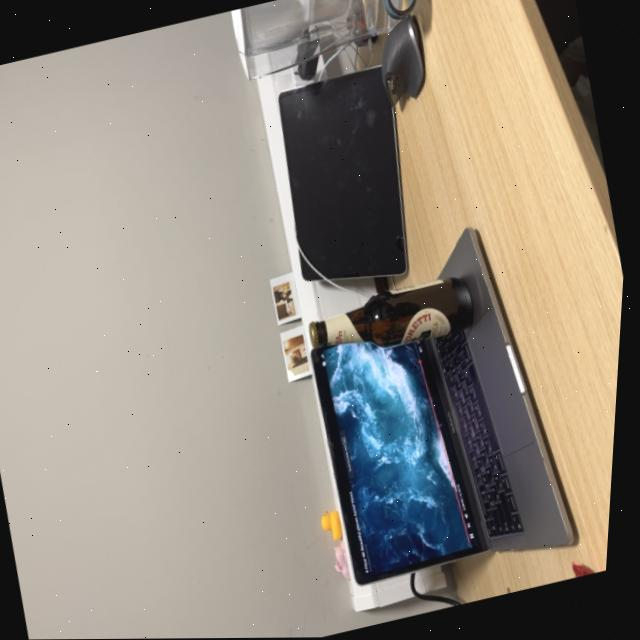beer: (302, 267, 495, 370)
